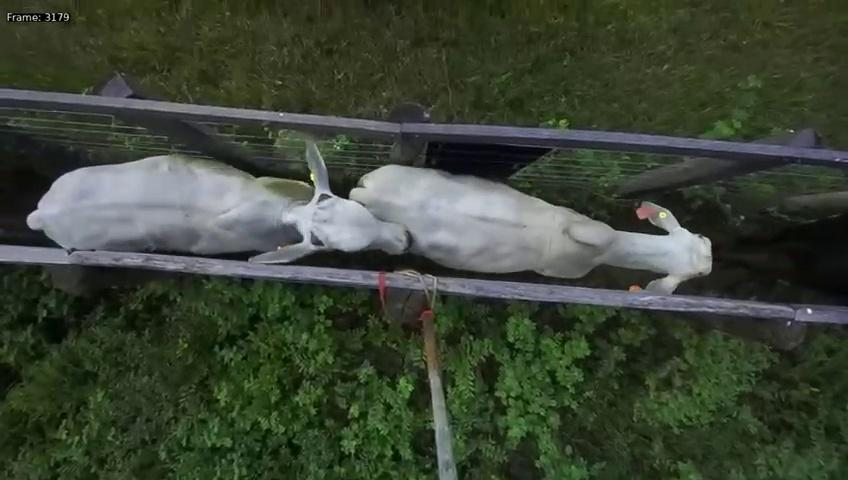cattle: (25, 136, 418, 266), (348, 157, 714, 291)
